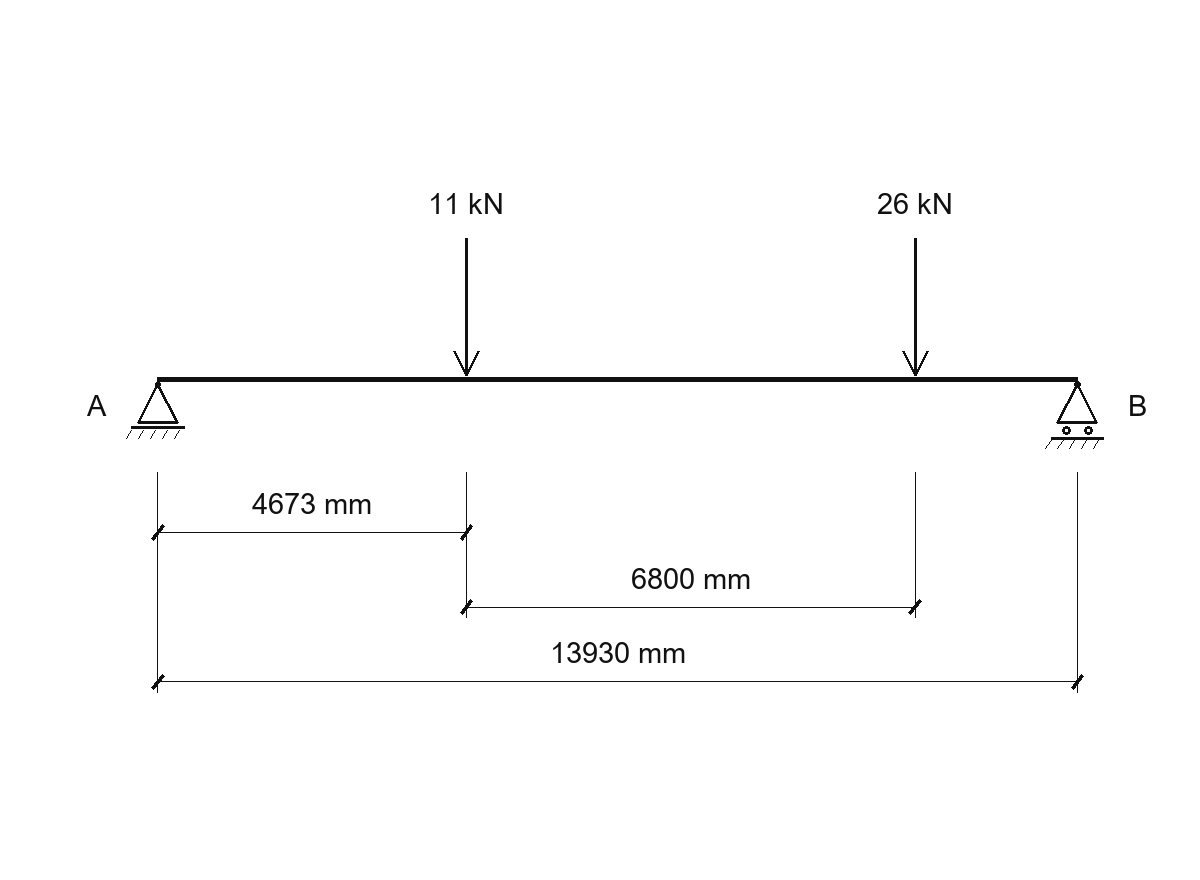pin_support: (126, 381, 185, 439)
point_load: (453, 238, 480, 376), (902, 238, 929, 376)
roller_support: (1045, 381, 1104, 449)
